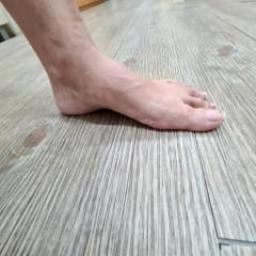Medial View -Left Foot-: (10, 24, 250, 150)
